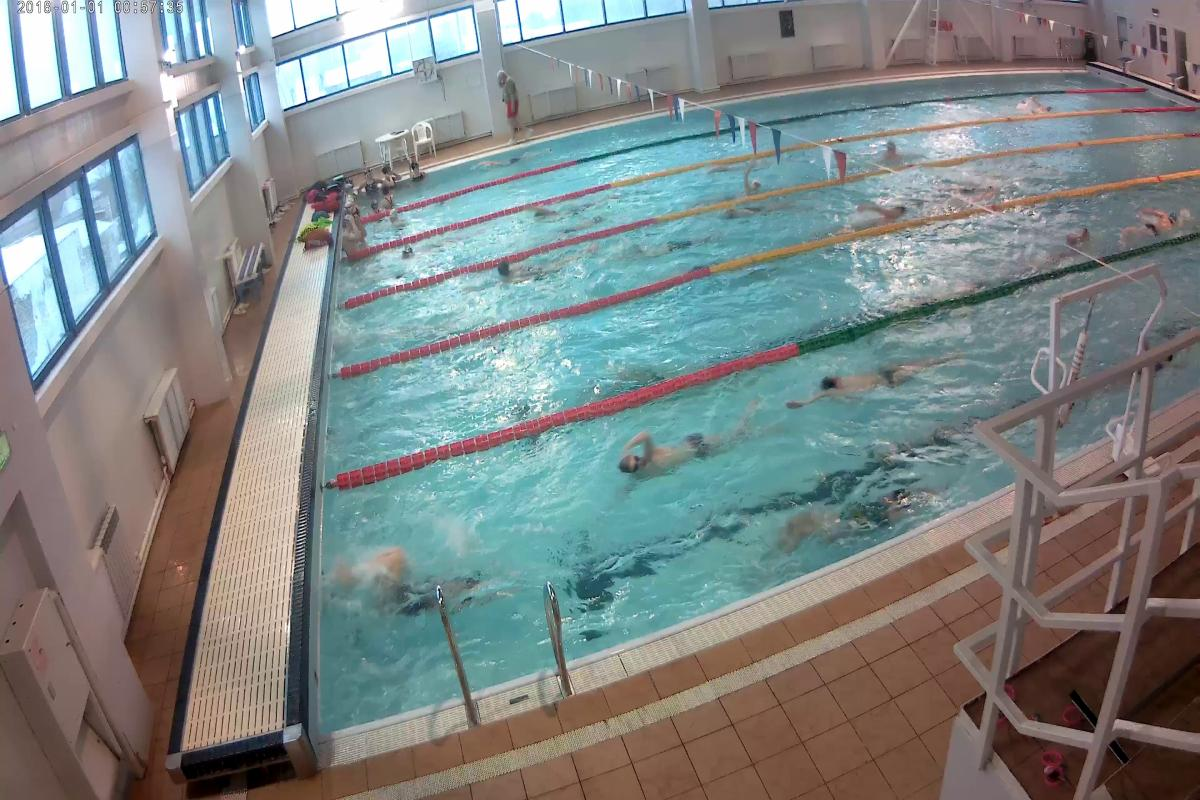swimmer: (348, 528, 490, 620), (608, 421, 748, 485), (784, 353, 938, 406), (1108, 201, 1181, 244), (496, 252, 565, 295), (858, 187, 910, 230), (734, 154, 771, 198), (877, 137, 909, 168)
